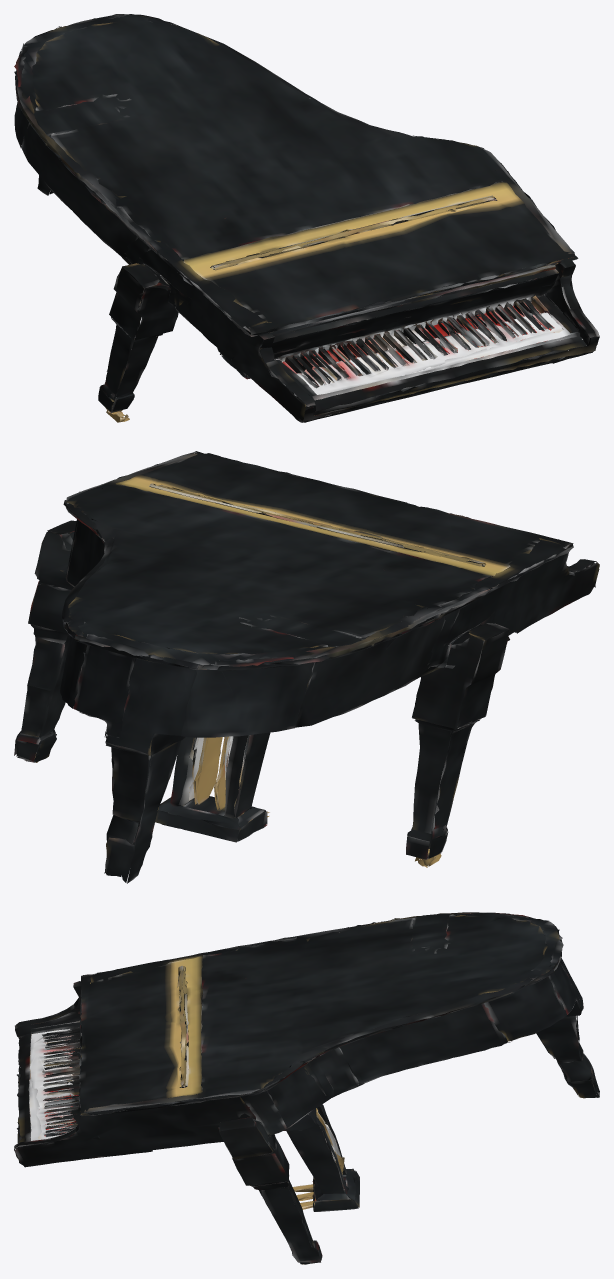
The model's file is piano.glb.
3 views of the same model, one above another, from view 1: azimuth 30°, elevation 25°; view 2: azimuth 150°, elevation 25°; view 3: azimuth 270°, elevation 25° (orthographic). The views are drawn at different scales.
Parts seen in each view (by area): view 1: Mesh_0; view 2: Mesh_0; view 3: Mesh_0.
Boxes of the visible parts, left/top/right/bottom form: Mesh_0: left=14, top=14, right=599, bottom=422; Mesh_0: left=14, top=451, right=599, bottom=883; Mesh_0: left=14, top=912, right=599, bottom=1264.
Bounding box in the file's own units: 1.5 × 1 × 2.3.
Materials: 1 (1 with a texture image).
